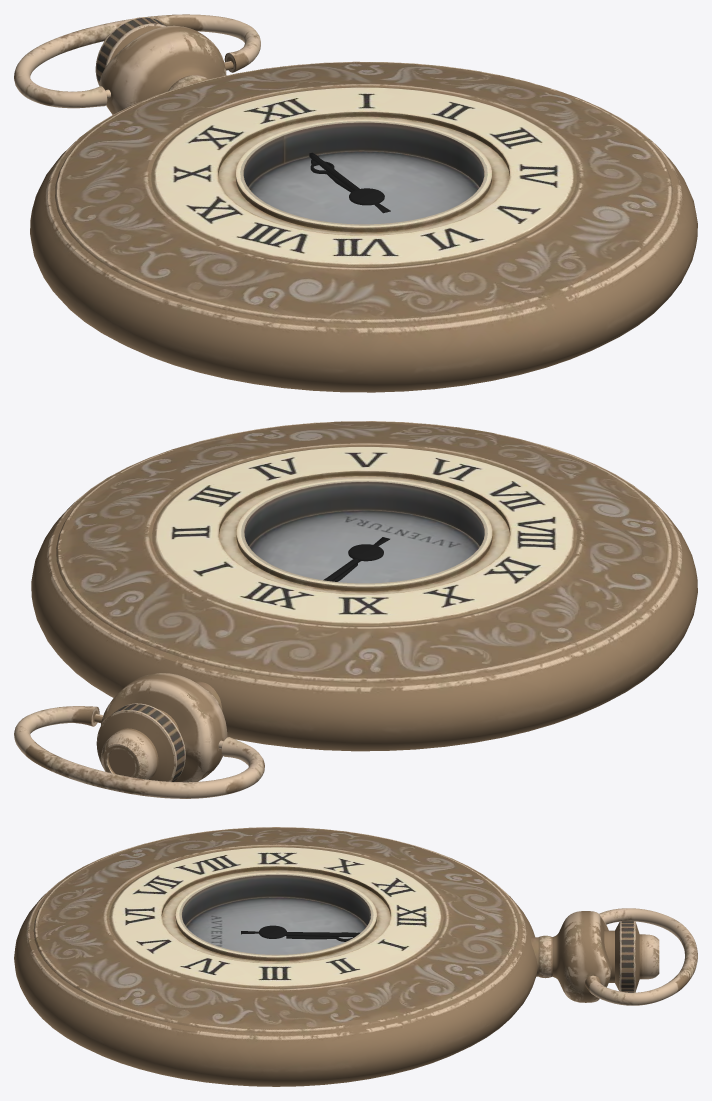
The model's file is clock.44f9ee6c.glb.
The picture shows the model from 3 angles, top to bottom: view 1: azimuth 30°, elevation 25°; view 2: azimuth 150°, elevation 25°; view 3: azimuth 270°, elevation 25°; orthographic projection. The views are drawn at different scales.
Parts seen in each view (by area): view 1: pocket_watch; view 2: pocket_watch; view 3: pocket_watch.
Boxes of the visible parts, <box> form: pocket_watch: <box>14,14,697,392</box>; pocket_watch: <box>14,421,697,798</box>; pocket_watch: <box>14,827,697,1086</box>.
Size of the model in its own units: 0.0613 by 0.0136 by 0.0799.
Materials: 3 (1 with a texture image).
